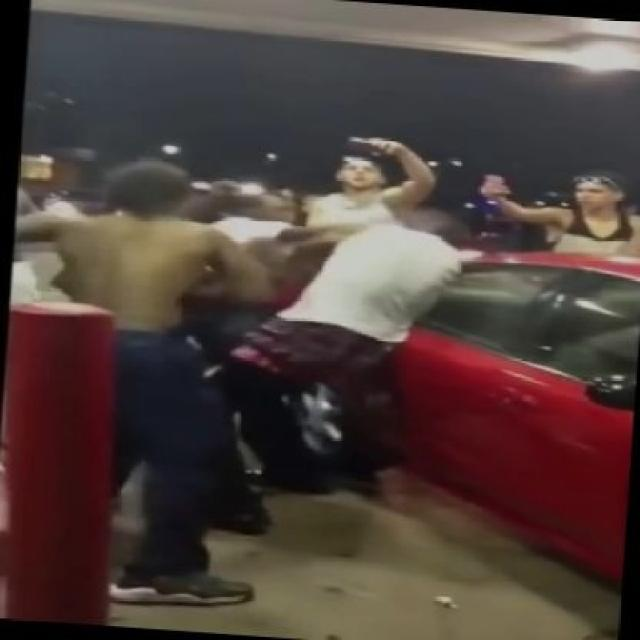fight: (0, 129, 488, 637)
